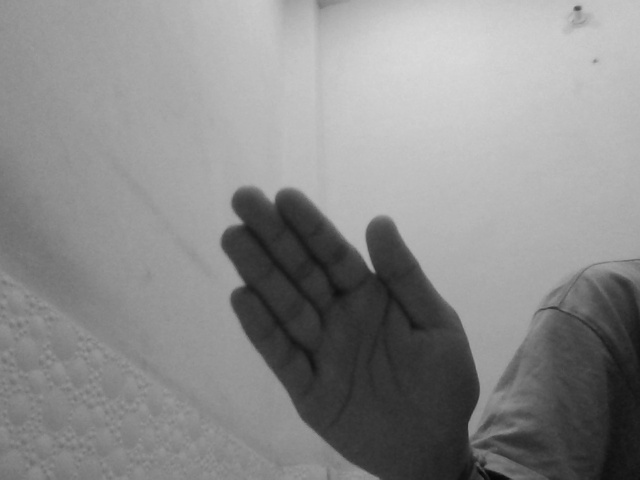Hello: (222, 184, 481, 480)
